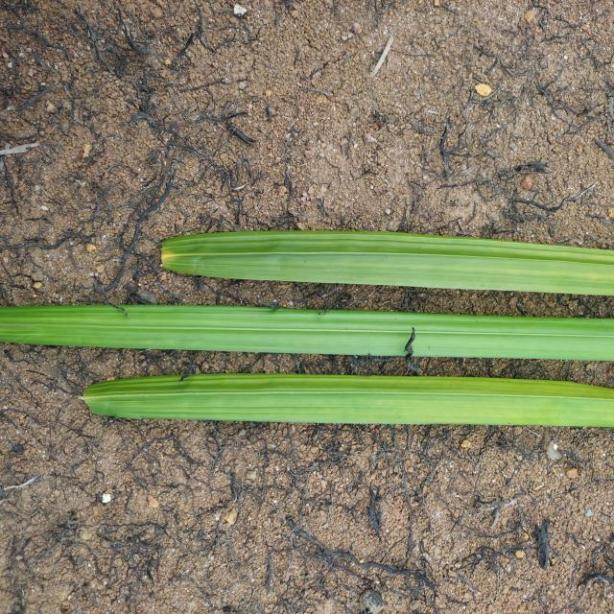nitrogen: (0, 302, 614, 362), (164, 220, 614, 299), (70, 375, 614, 428)
